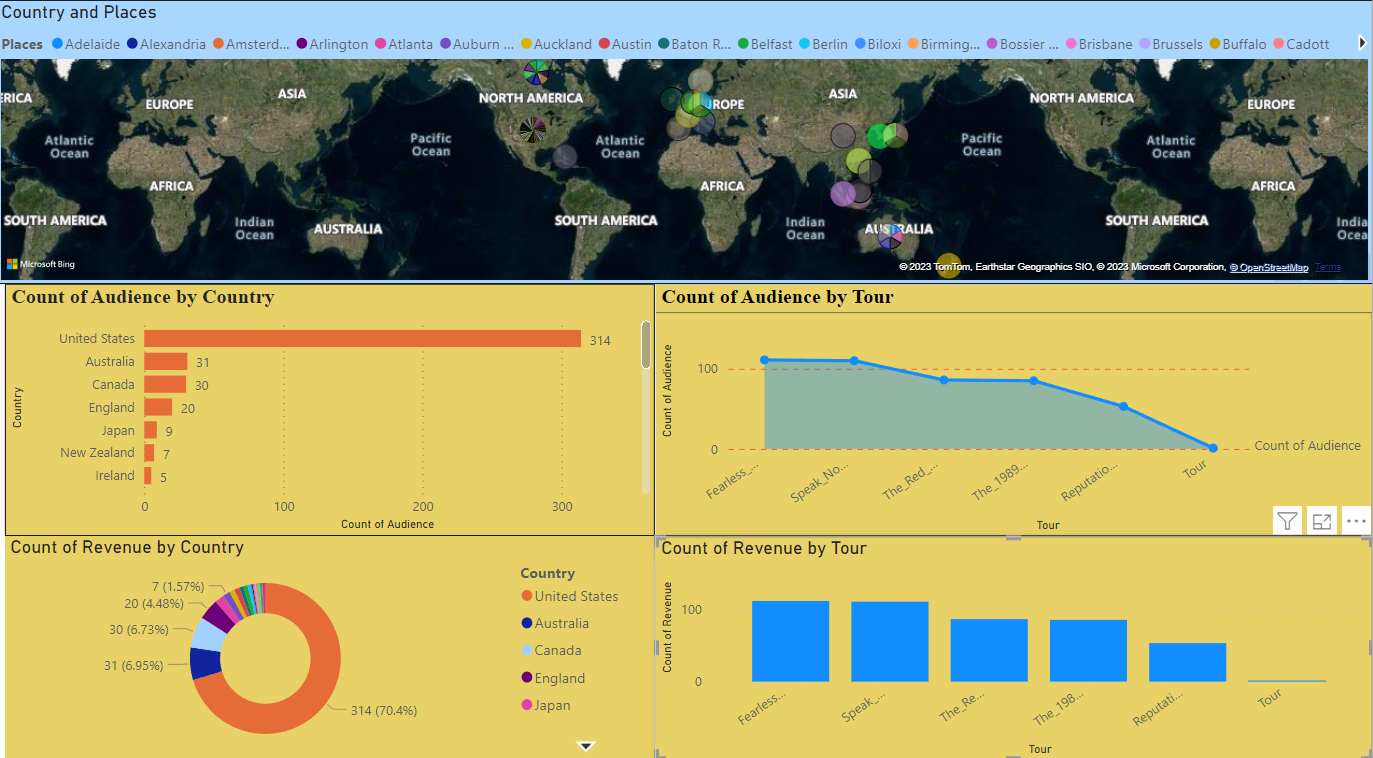

This screenshot's page, from the dashboard's own definition file:
{"tool":"powerbi","page":{"name":"Page 1","canvas":[1280,720],"ordinal":0},"visuals":[{"type":"barChart","fields":{"Category":["Taylor_Train.Country "],"Y":["Taylor_Train.Audience "]},"box":[9.6,278,604,234.2],"z":0},{"type":"donutChart","fields":{"Category":["Taylor_Train.Country "],"Y":["Taylor_Train.Revenue"]},"box":[9.6,512.2,604,208.2],"z":1},{"type":"stackedAreaChart","fields":{"Y":["Taylor_Train.Audience "],"Category":["Taylor_Train.Tour Name"]},"box":[613.6,278,667,234.2],"z":2},{"type":"map","fields":{"Category":["Taylor_Train.Country "],"Series":["Taylor_Train.Places"]},"box":[0,13.7,1280.6,264.3],"z":3},{"type":"lineClusteredColumnComboChart","fields":{"Y":["Taylor_Train.Revenue"],"Category":["Taylor_Train.Tour Name"]},"box":[613.6,512.2,667,208.2],"z":4}]}

Visuals, with their boxes in screenshot pixels (x1, y1, x2, y2), scaled from the page's 1280x720 canvas onto the 1373x758 screenshot:
barChart - Taylor_Train.Country  x Taylor_Train.Audience : bbox=(10, 293, 658, 539)
donutChart - Taylor_Train.Country  x Taylor_Train.Revenue: bbox=(10, 539, 658, 757)
stackedAreaChart - Taylor_Train.Audience  x Taylor_Train.Tour Name: bbox=(658, 293, 1372, 539)
map - Taylor_Train.Country  x Taylor_Train.Places: bbox=(0, 14, 1372, 293)
lineClusteredColumnComboChart - Taylor_Train.Revenue x Taylor_Train.Tour Name: bbox=(658, 539, 1372, 757)
